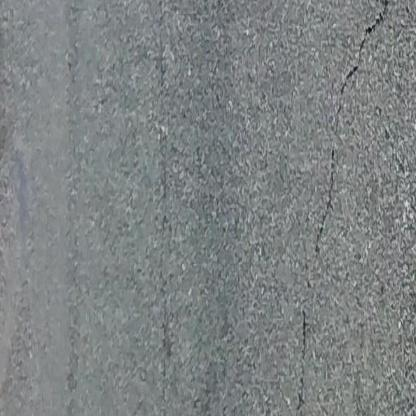Cracks: (332, 0, 397, 135), (312, 144, 339, 257), (293, 315, 311, 416)
